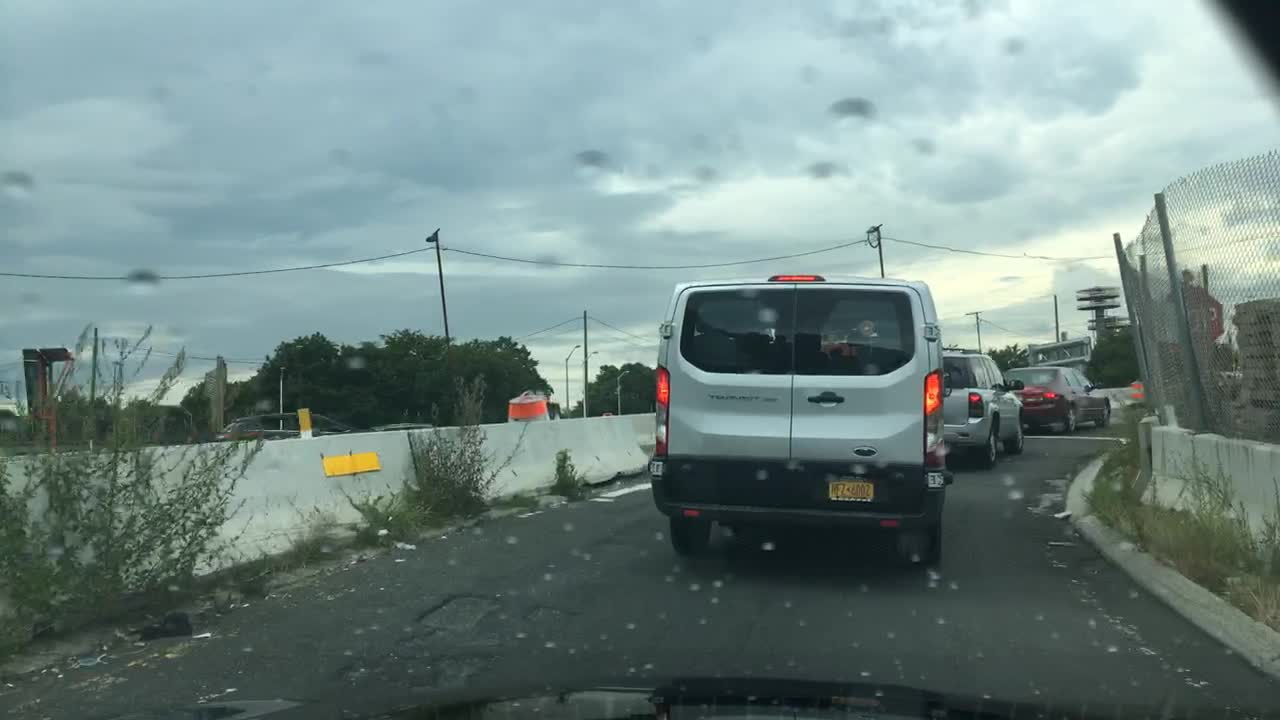car: (648, 273, 943, 564), (939, 346, 1023, 465), (1002, 365, 1109, 435), (205, 411, 363, 441), (366, 420, 434, 432)
traffic sign: (1163, 285, 1223, 343)
